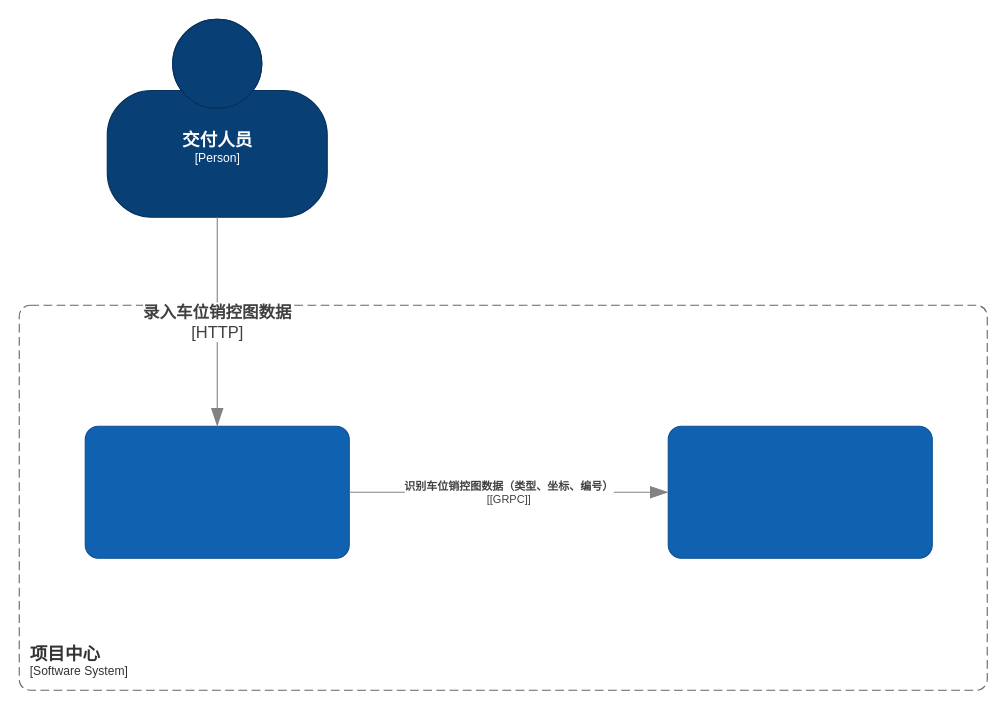
Some shapes in this 1007 by 710 pixel diagram are drawn without their labels. Here are the shapes that lost their labels. From the top down, the centre of each, then its label:
(216,491): 房源管理服务 [Software System] 房源类型：住宅、商铺、车位等
(799,491): 车位销控图识别服务 [Software System]
